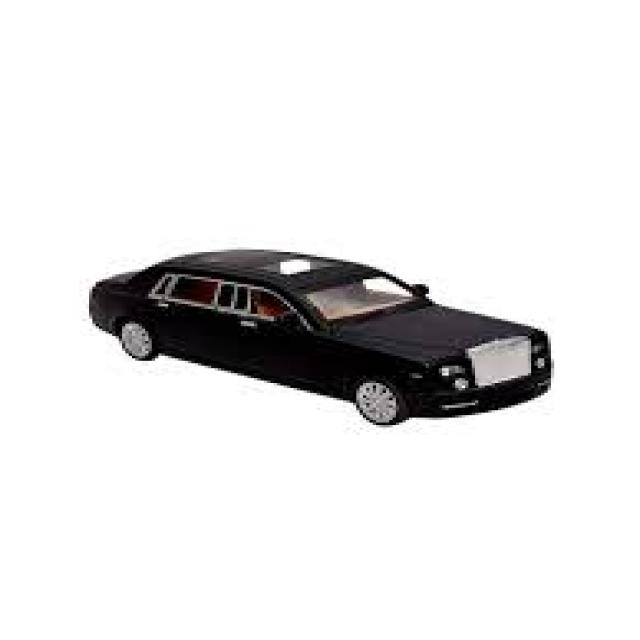Car: (86, 247, 551, 425)
